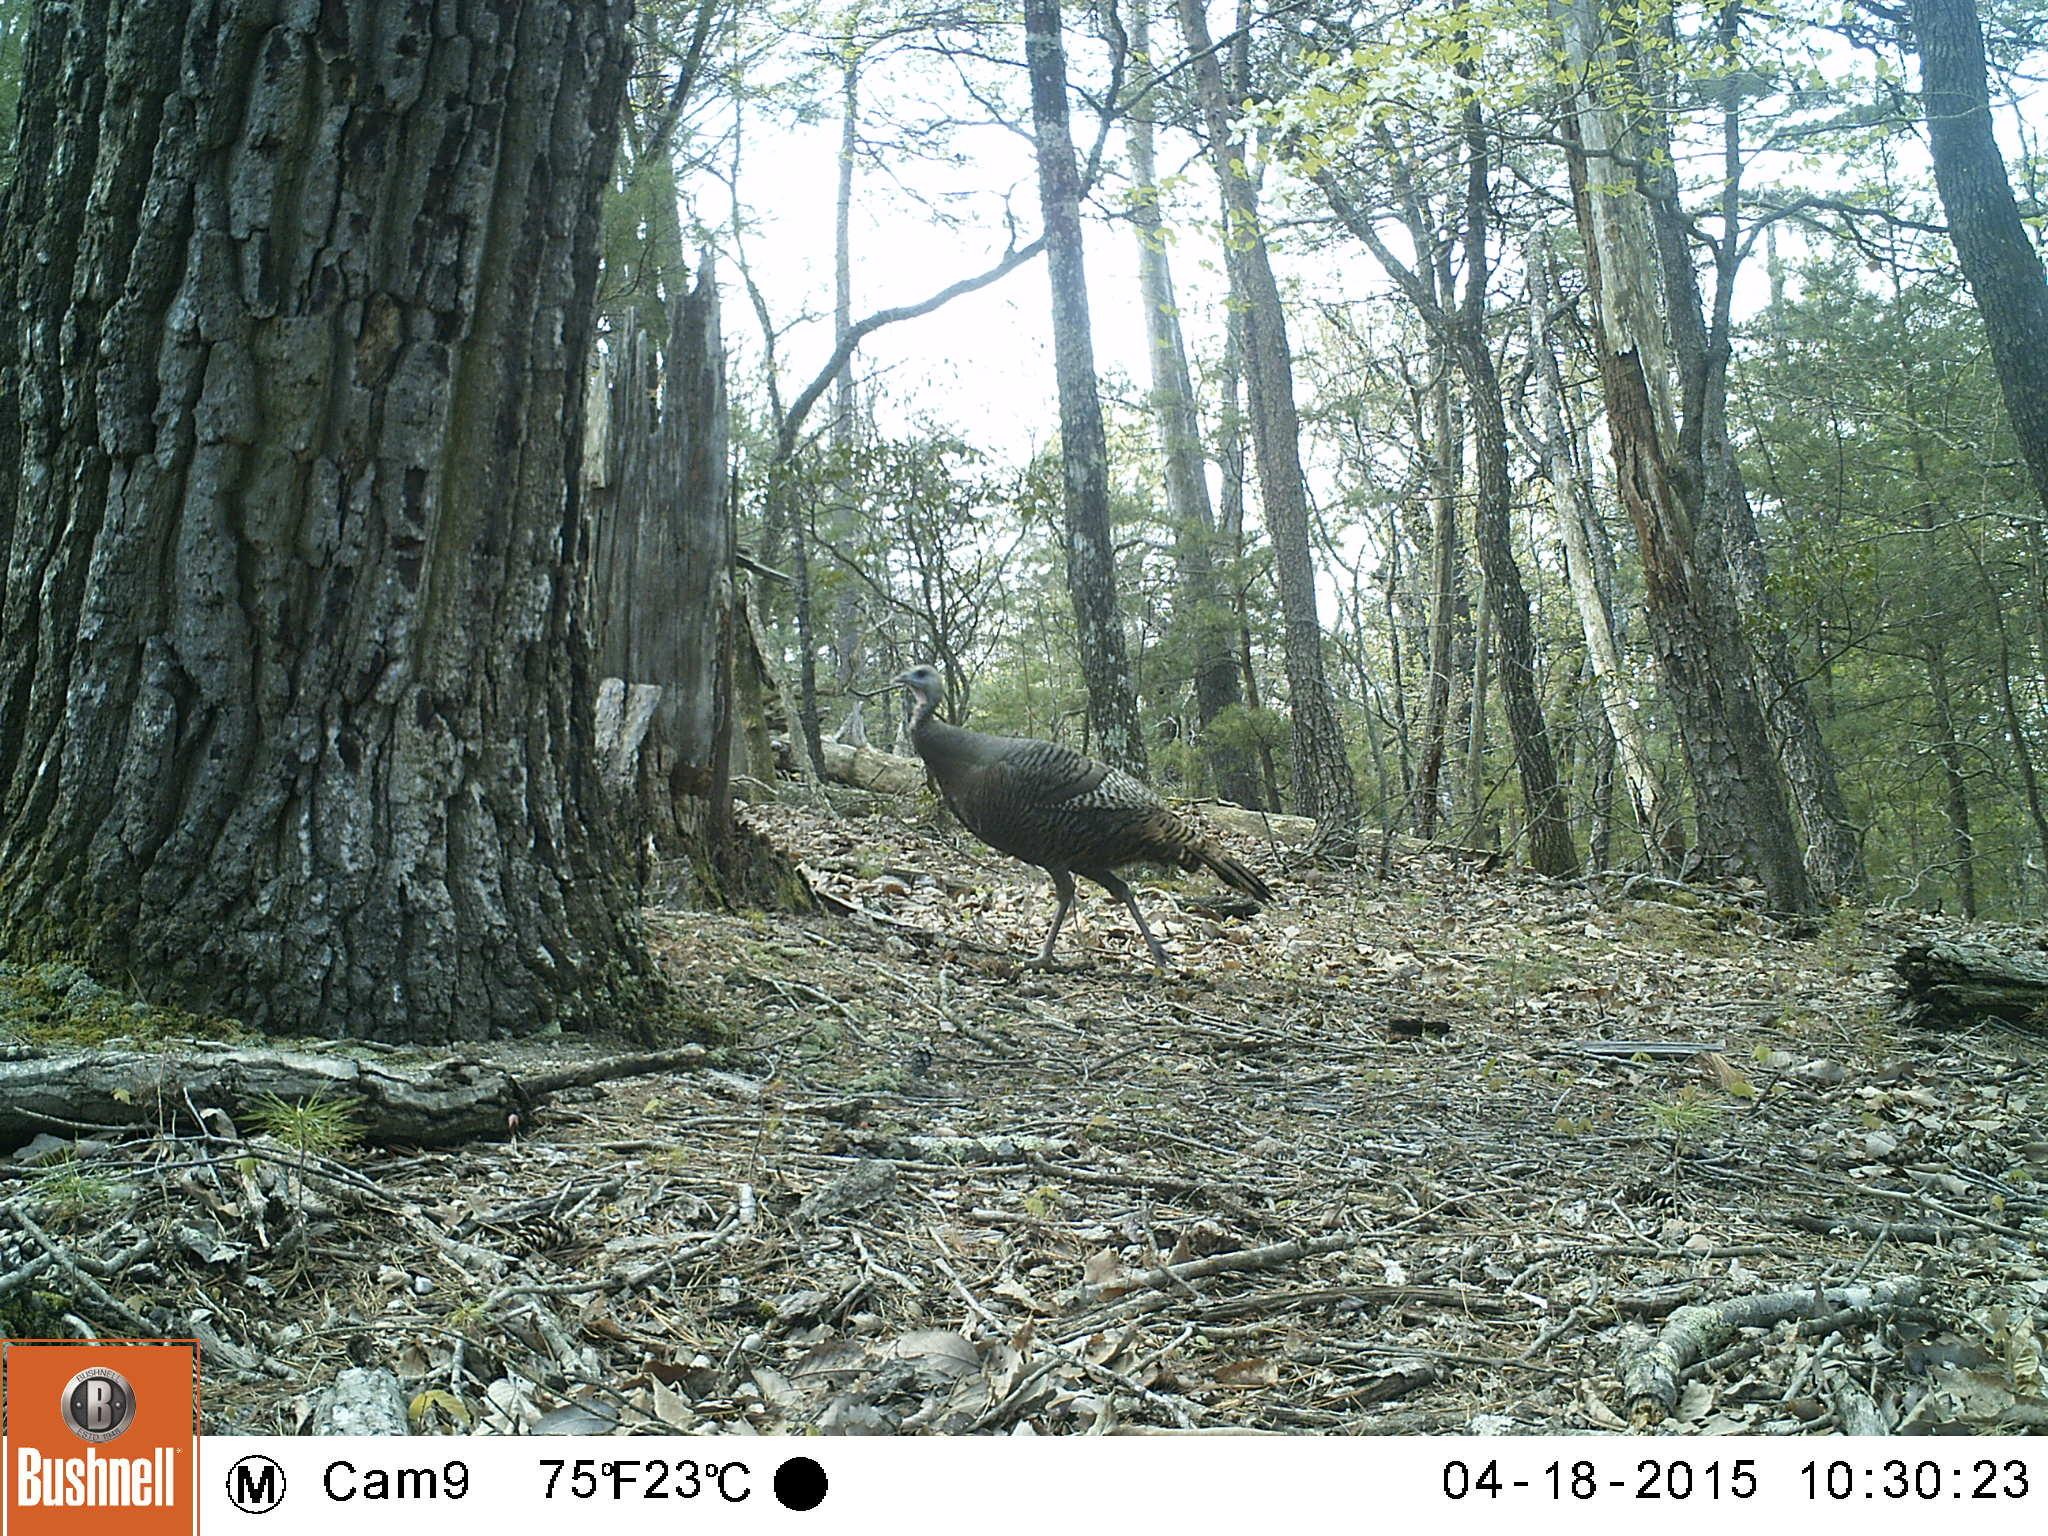Animal: (889, 663, 1276, 973)
